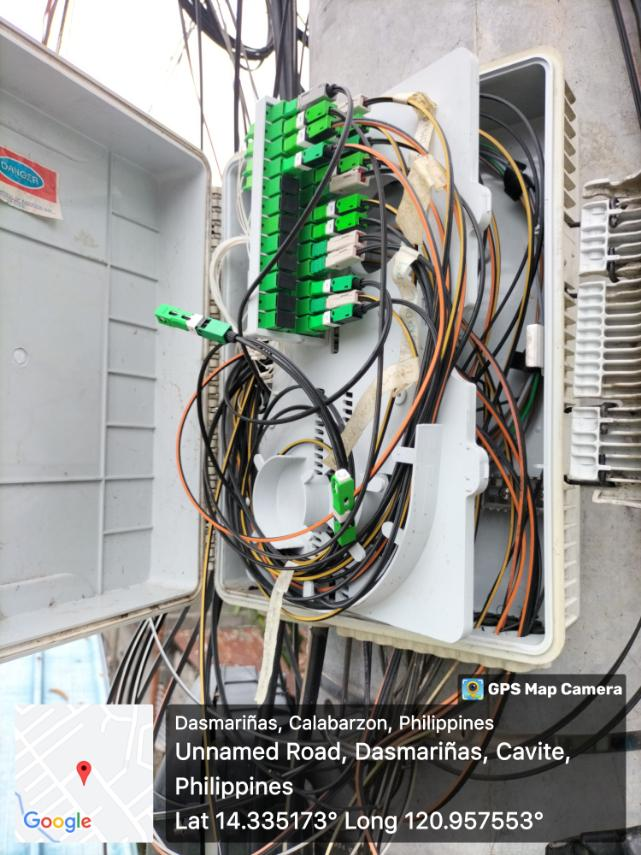occupied: (280, 112, 345, 152), (282, 93, 347, 133), (282, 76, 347, 116), (282, 134, 346, 174), (307, 280, 374, 316), (305, 95, 372, 131), (304, 113, 371, 149), (304, 129, 371, 165), (313, 148, 380, 184), (310, 240, 377, 276), (309, 223, 376, 259), (311, 206, 378, 242), (313, 189, 380, 225), (314, 167, 381, 203), (306, 296, 373, 332), (309, 263, 376, 299)
vacant: (280, 215, 298, 233), (281, 198, 299, 216), (281, 176, 299, 194), (277, 272, 295, 290), (279, 234, 297, 252), (276, 293, 293, 311), (277, 311, 294, 329), (279, 252, 296, 270)
